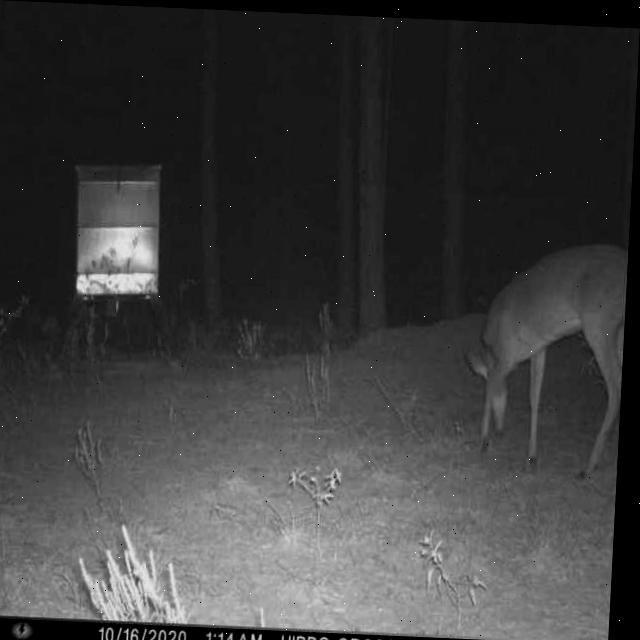Deer: (457, 230, 629, 480)
